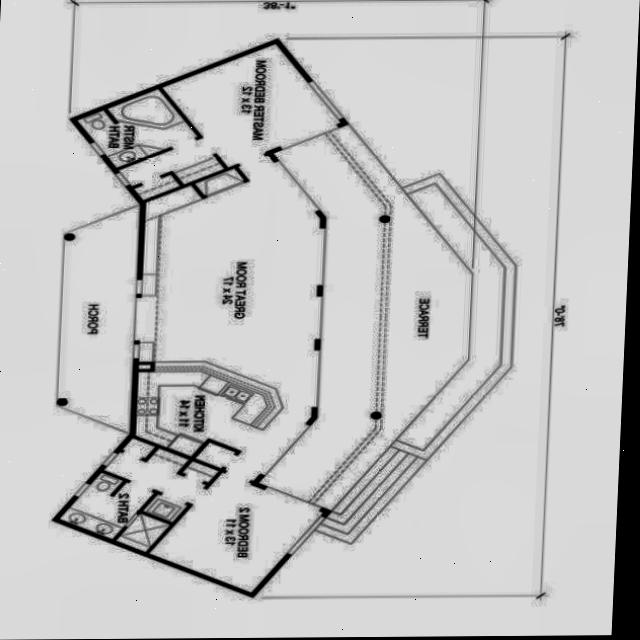room: (134, 150, 322, 483), (161, 32, 340, 179), (59, 414, 217, 576), (149, 460, 322, 606), (76, 68, 222, 221)
